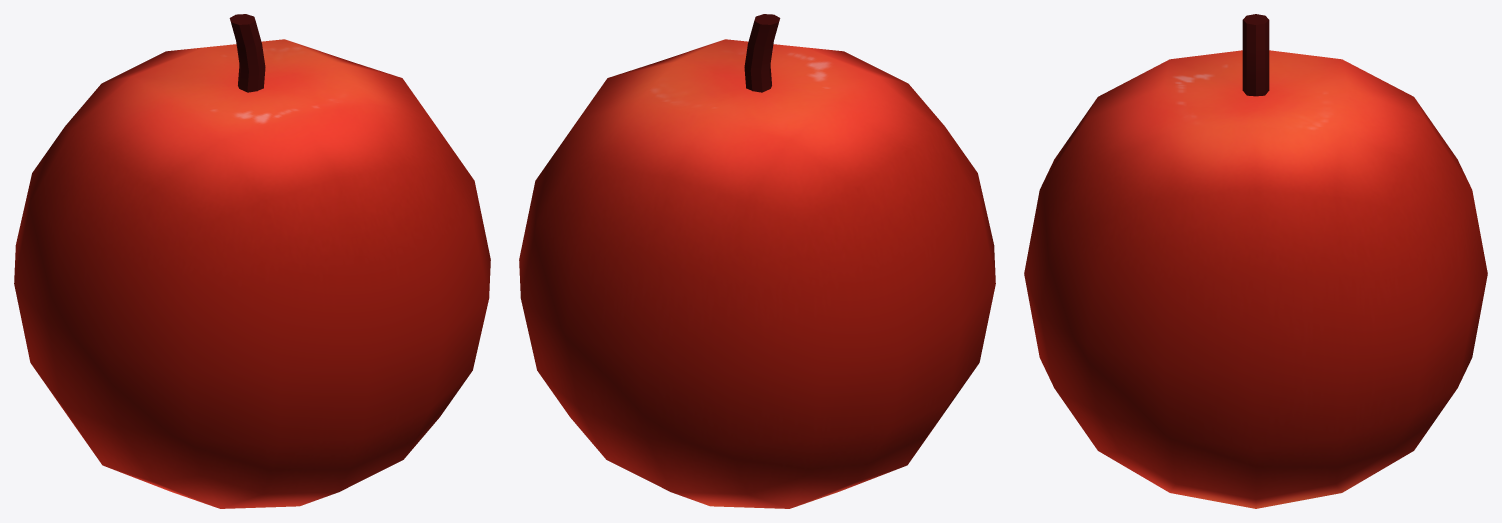
Rendered from ball.fbx.
The picture shows the model from 3 angles, left to right: view 1: azimuth 30°, elevation 25°; view 2: azimuth 150°, elevation 25°; view 3: azimuth 270°, elevation 25°; orthographic projection. The views are drawn at different scales.
Visible parts, largest first — view 1: pCube1, pCylinder1; view 2: pCube1, pCylinder1; view 3: pCube1, pCylinder1.
Part boxes in pixels (left/top/right/bottom): pCube1: left=14, top=39, right=490, bottom=508; pCylinder1: left=229, top=14, right=265, bottom=92; pCube1: left=519, top=39, right=995, bottom=508; pCylinder1: left=744, top=14, right=780, bottom=92; pCube1: left=1024, top=50, right=1487, bottom=508; pCylinder1: left=1242, top=14, right=1269, bottom=96.
Bounding box in the file's own units: 1.76 × 1.92 × 1.76.
